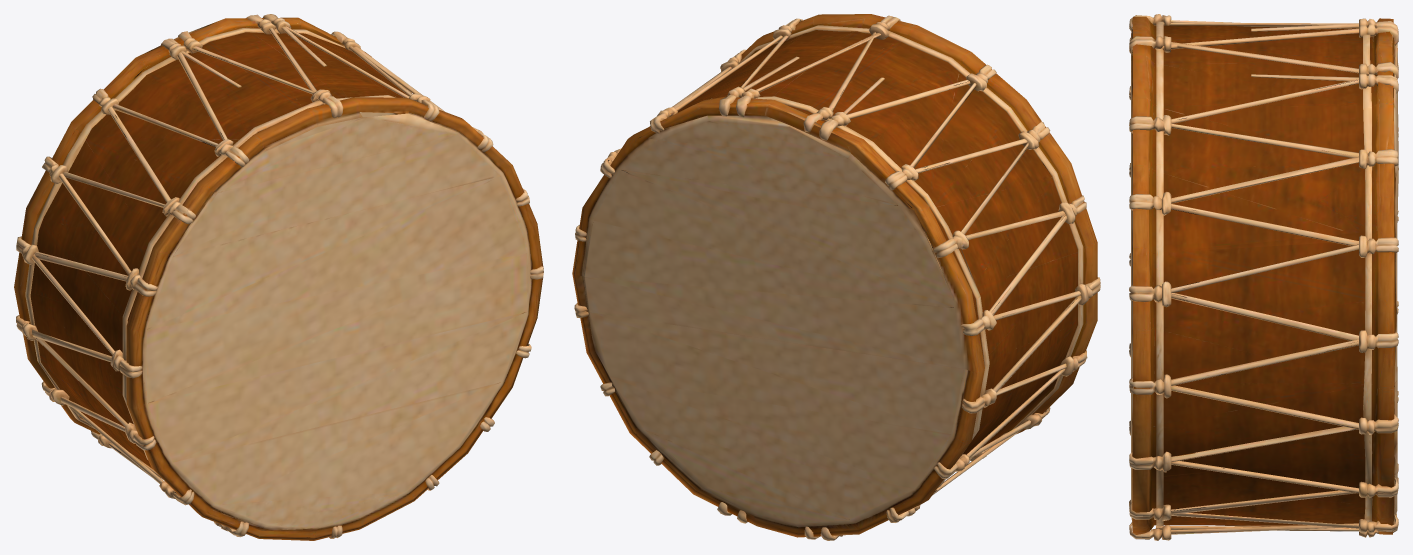
Rendered from davul.glb.
3 views of the same model, side by side, from view 1: azimuth 30°, elevation 25°; view 2: azimuth 150°, elevation 25°; view 3: azimuth 270°, elevation 25° (orthographic). The views are drawn at different scales.
Visible parts, largest first — view 1: geometry_0; view 2: geometry_0; view 3: geometry_0.
Part boxes in pixels (x1,y1,x2,y2): geometry_0: (14,14,543,540); geometry_0: (572,14,1100,540); geometry_0: (1129,14,1398,540).
Size of the model in its own units: 0.6003 by 0.6 by 0.3048.
Materials: 1 (1 with a texture image).
